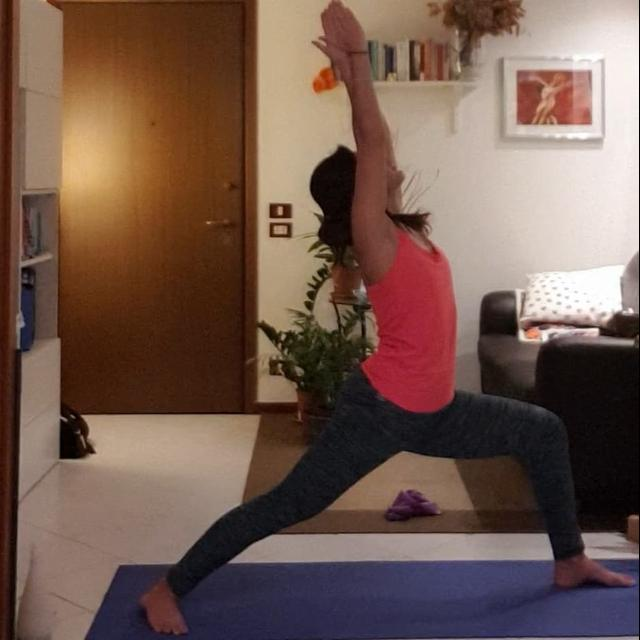Warrior_I: (128, 7, 640, 633)
